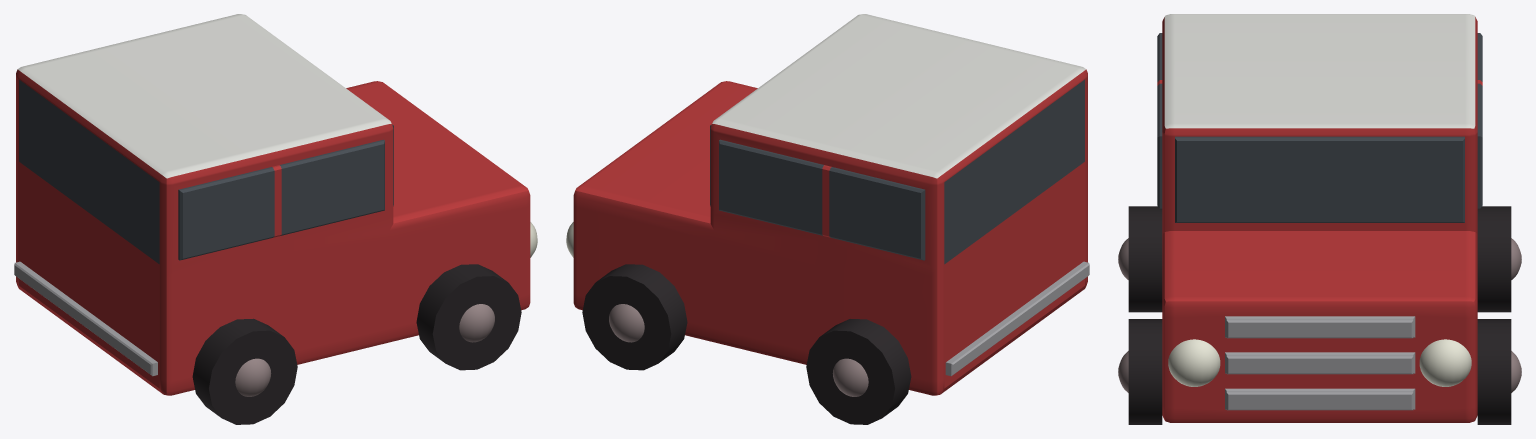
File: Toy_Car.fbx
The picture shows the model from 3 angles, left to right: view 1: azimuth 30°, elevation 25°; view 2: azimuth 150°, elevation 25°; view 3: azimuth 270°, elevation 25°; orthographic projection. The views are drawn at different scales.
Parts seen in each view (by area): view 1: pSphere7; view 2: pSphere7; view 3: pSphere7.
Boxes of the visible parts, <box> form: pSphere7: <box>14,14,537,424</box>; pSphere7: <box>566,14,1089,424</box>; pSphere7: <box>1118,14,1521,424</box>.
Size of the model in its own units: 3.35 by 2.06 by 2.9.
